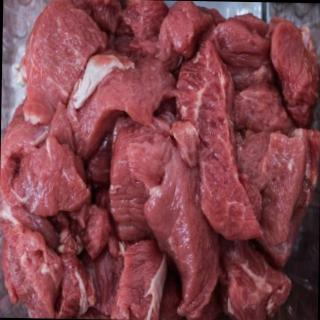Daging Sapi: (5, 3, 320, 319), (175, 41, 266, 241), (143, 128, 220, 320), (68, 50, 185, 147), (22, 1, 106, 130), (114, 120, 177, 244), (13, 135, 90, 218), (1, 208, 58, 318), (272, 20, 320, 126), (227, 246, 293, 320), (157, 1, 224, 65), (54, 226, 95, 320)
